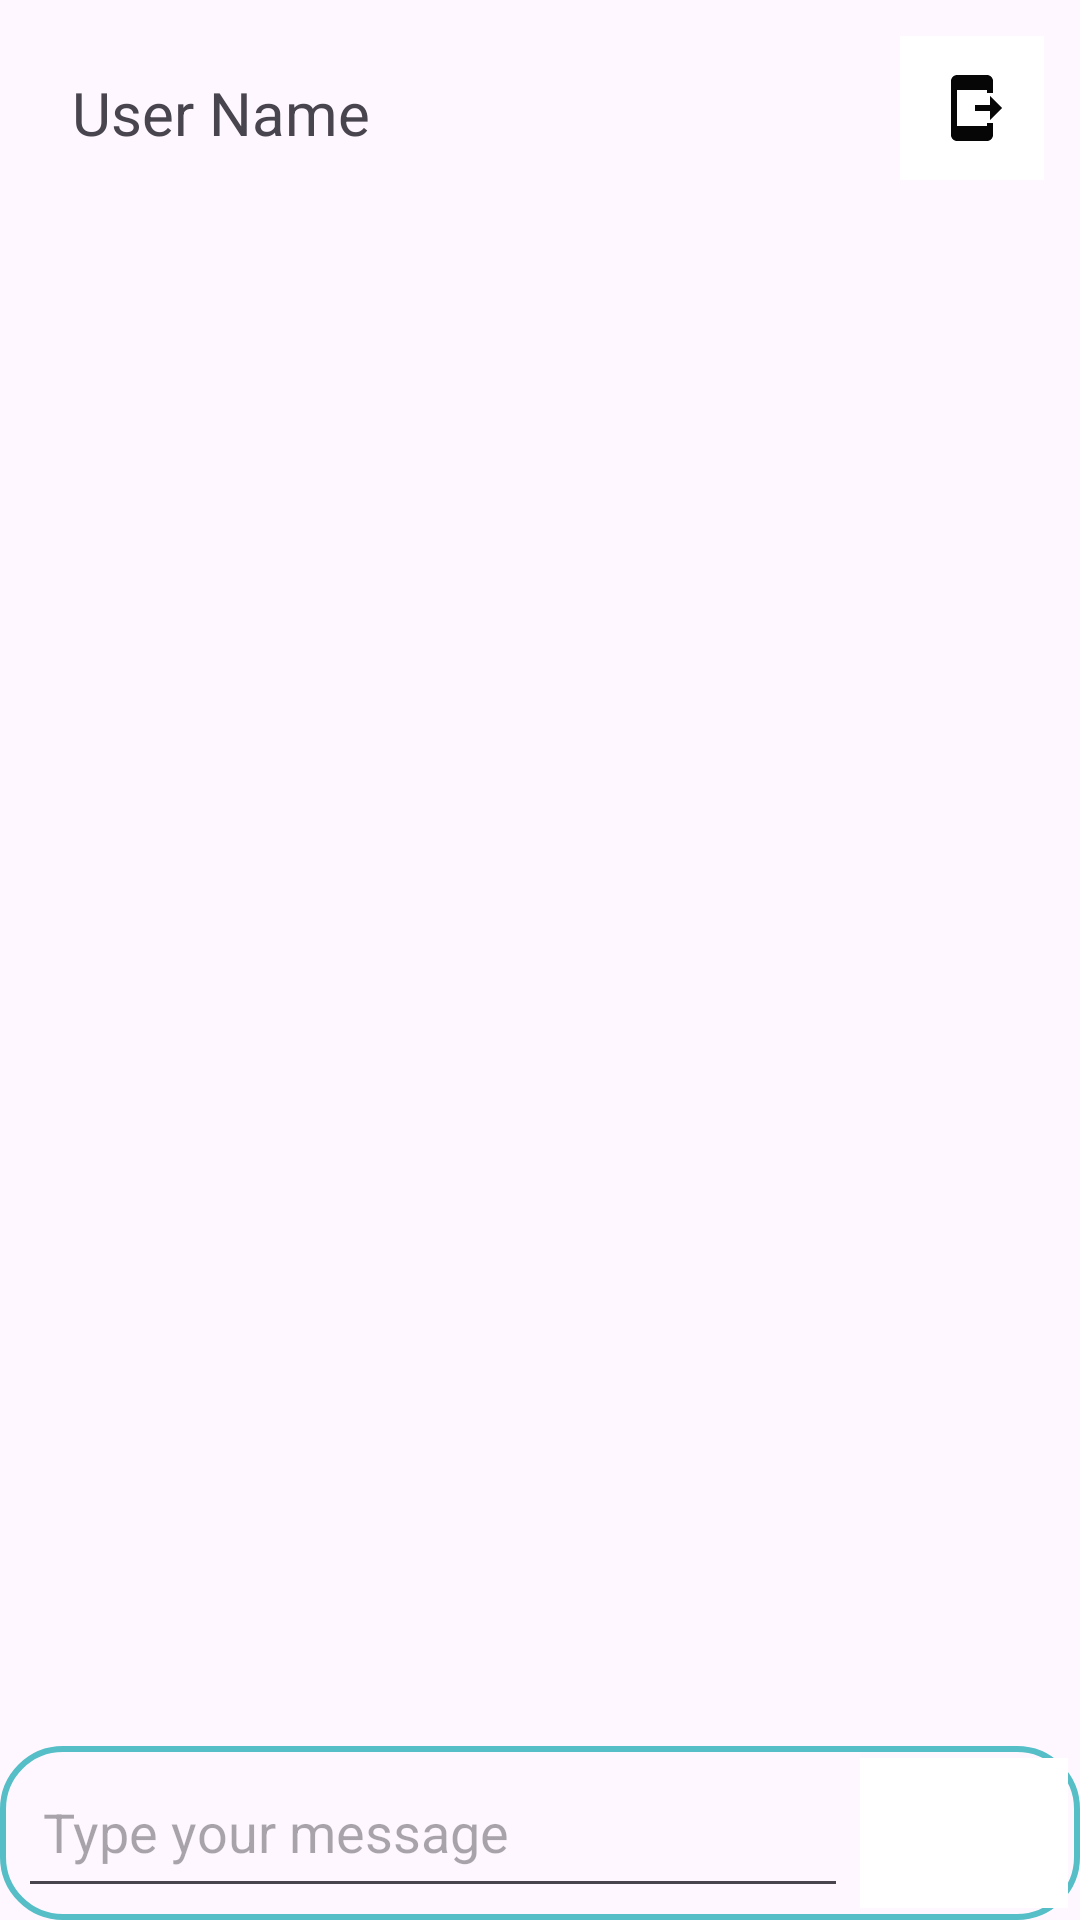

Where to tap for icons on this 1080w x 1920h app screen, as [x,y]:
log out: [976,108]
